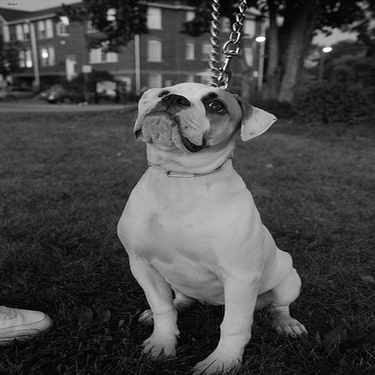dog: (111, 78, 307, 371)
